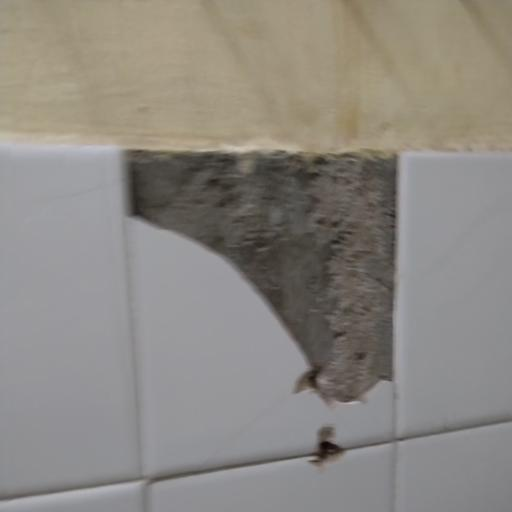spalling: (117, 127, 433, 410), (306, 418, 353, 474)
